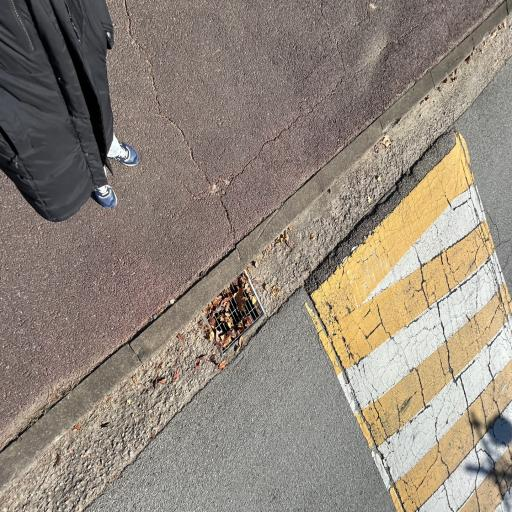debris: (244, 316, 252, 327), (231, 280, 237, 286)
drain: (202, 272, 264, 351)
